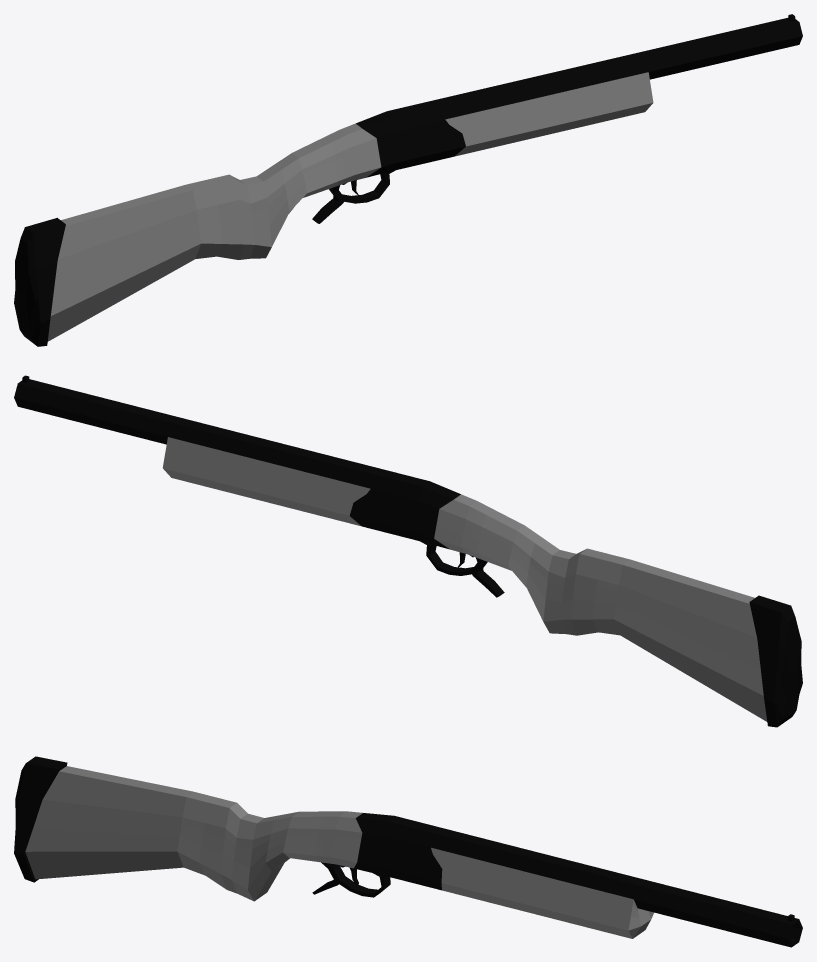
Rendered from baikal.obj.
3 renders of one model, top to bottom at view 1: azimuth 30°, elevation 25°; view 2: azimuth 150°, elevation 25°; view 3: azimuth 330°, elevation 25°, orthographic. The views are drawn at different scales.
Parts seen in each view (by area): view 1: baikal_mp18_Cube.005; view 2: baikal_mp18_Cube.005; view 3: baikal_mp18_Cube.005.
Boxes of the visible parts, x1,y1,x2,y2 form: baikal_mp18_Cube.005: (14, 14, 802, 346); baikal_mp18_Cube.005: (14, 375, 802, 727); baikal_mp18_Cube.005: (14, 756, 802, 947).
Bounding box in the file's own units: 1.16 × 0.2164 × 0.0861.
